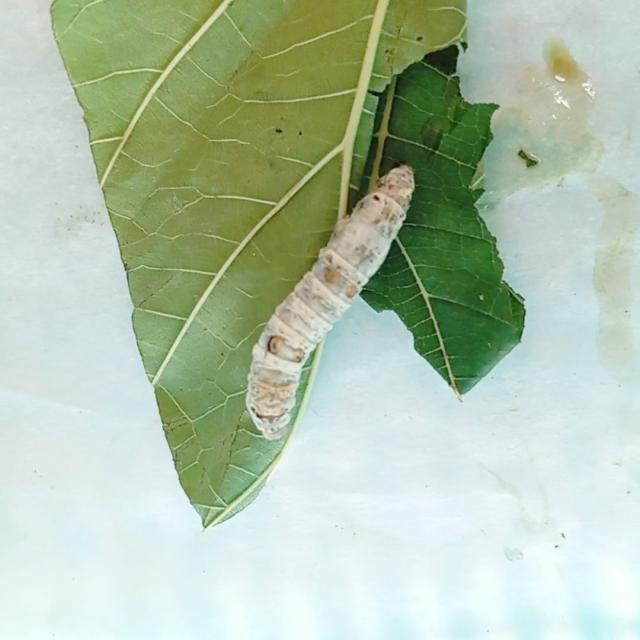Grasserie: (230, 149, 424, 460)
